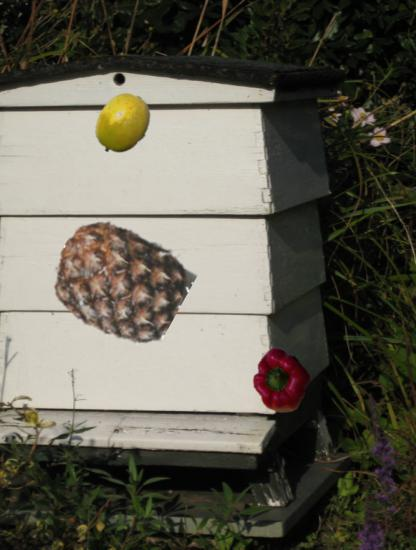Maracuja: (91, 92, 155, 156)
Pepper: (249, 350, 313, 414)
Pineapple: (54, 216, 185, 347)
